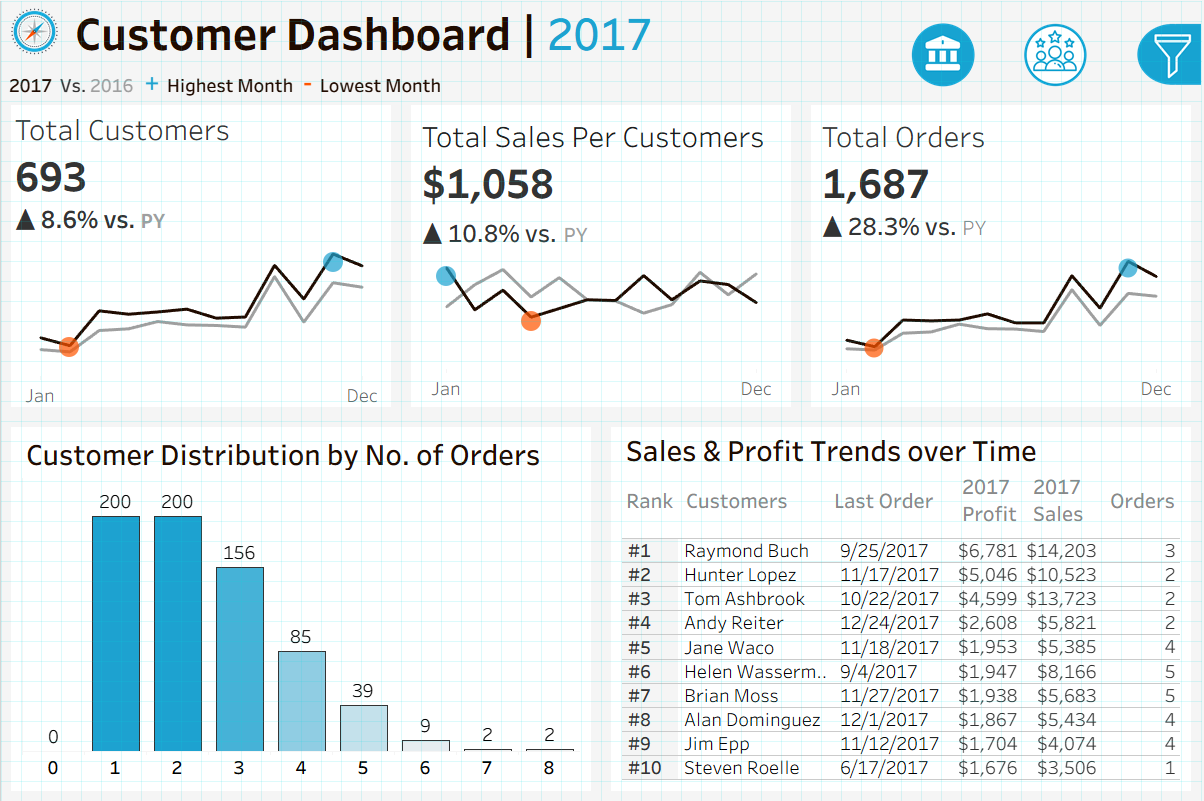

What the dashboard file says about the page in this screenshot:
{"tool":"tableau","page":{"name":"CustomerDashboard","canvas":[1200,800],"ordinal":0},"visuals":[{"type":"image","param":"Image/Icon - Logo.png","box":[0,0,66,61]},{"type":"text","box":[66,0,794,61]},{"type":"blank","box":[982,10,207,89]},{"type":"dashboard-object","box":[885,17,113,73]},{"type":"dashboard-object","box":[998,17,113,73]},{"type":"worksheet","title":"Leg. KPI","mark":"Automatic","box":[0,61,1200,38]},{"type":"worksheet","title":"Tot. Customer","mark":"Line","rows":["Calculation_709879930910846987"],"cols":["Order Date"],"box":[0,99,400,317]},{"type":"worksheet","title":"SPC","mark":"Line","rows":["Calculation_1131529446180081668"],"cols":["Order Date"],"box":[400,99,400,317]},{"type":"worksheet","title":"Orders","mark":"Automatic","rows":["Calculation_908038314855620611"],"cols":["Order Date"],"box":[800,99,400,317]},{"type":"text","box":[982,99,207,47]},{"type":"parameter","param":"[Parameters].[Parameter 1]","box":[982,146,207,60]},{"type":"text","box":[982,206,207,39]},{"type":"filter","title":"Leg. KPI","param":"[federated.1l19v4d15t1470123tqrn0ay8ml4].[none:Category:nk]","box":[982,245,207,70]},{"type":"filter","title":"Leg. KPI","param":"[federated.1l19v4d15t1470123tqrn0ay8ml4].[none:Sub-Category:nk]","box":[982,315,207,70]},{"type":"blank","box":[982,385,207,55]},{"type":"text","box":[17,433,566,40]},{"type":"text","box":[617,433,566,32]},{"type":"text","box":[982,440,207,39]},{"type":"text","box":[617,465,60,68]},{"type":"text","box":[677,465,148,68]},{"type":"text","box":[825,465,128,68]},{"type":"text","box":[953,465,71,68]},{"type":"text","box":[1024,465,77,68]},{"type":"text","box":[1101,465,82,68]},{"type":"worksheet","title":"Cust. distribution","mark":"Bar","rows":["Calculation_709879930871066624"],"cols":["Calculation_1288029533564354560"],"box":[17,473,566,310]},{"type":"filter","title":"Leg. KPI","param":"[federated.1l19v4d15t1470123tqrn0ay8ml4].[none:Region:nk]","box":[982,479,207,70]},{"type":"worksheet","title":"Top Customers","mark":"Automatic","rows":["Calculation_1288029533568999427","Customer Name","Order Date"],"box":[617,533,566,250]},{"type":"filter","title":"Leg. KPI","param":"[federated.1l19v4d15t1470123tqrn0ay8ml4].[none:State:nk]","box":[982,549,207,70]},{"type":"filter","title":"Leg. KPI","param":"[federated.1l19v4d15t1470123tqrn0ay8ml4].[none:City:nk]","box":[982,619,207,83]}]}

Visuals, with their boxes in screenshot pixels (x1, y1, x2, y2), scaled from the page's 1200x800 canvas onto the 1204x801 screenshot:
image: x1=0 y1=0 x2=66 y2=61
text: x1=66 y1=0 x2=863 y2=61
blank: x1=985 y1=10 x2=1193 y2=99
dashboard-object: x1=888 y1=17 x2=1001 y2=90
dashboard-object: x1=1001 y1=17 x2=1115 y2=90
"Leg. KPI" worksheet: x1=0 y1=61 x2=1203 y2=99
"Tot. Customer" worksheet (Line marks): x1=0 y1=99 x2=401 y2=417
"SPC" worksheet (Line marks): x1=401 y1=99 x2=803 y2=417
"Orders" worksheet: x1=803 y1=99 x2=1203 y2=417
text: x1=985 y1=99 x2=1193 y2=146
parameter: x1=985 y1=146 x2=1193 y2=206
text: x1=985 y1=206 x2=1193 y2=245
"Leg. KPI" filter: x1=985 y1=245 x2=1193 y2=315
"Leg. KPI" filter: x1=985 y1=315 x2=1193 y2=385
blank: x1=985 y1=385 x2=1193 y2=441
text: x1=17 y1=434 x2=585 y2=474
text: x1=619 y1=434 x2=1187 y2=466
text: x1=985 y1=441 x2=1193 y2=480
text: x1=619 y1=466 x2=679 y2=534
text: x1=679 y1=466 x2=828 y2=534
text: x1=828 y1=466 x2=956 y2=534
text: x1=956 y1=466 x2=1027 y2=534
text: x1=1027 y1=466 x2=1105 y2=534
text: x1=1105 y1=466 x2=1187 y2=534
"Cust. distribution" worksheet (Bar marks): x1=17 y1=474 x2=585 y2=784
"Leg. KPI" filter: x1=985 y1=480 x2=1193 y2=550
"Top Customers" worksheet: x1=619 y1=534 x2=1187 y2=784
"Leg. KPI" filter: x1=985 y1=550 x2=1193 y2=620
"Leg. KPI" filter: x1=985 y1=620 x2=1193 y2=703
